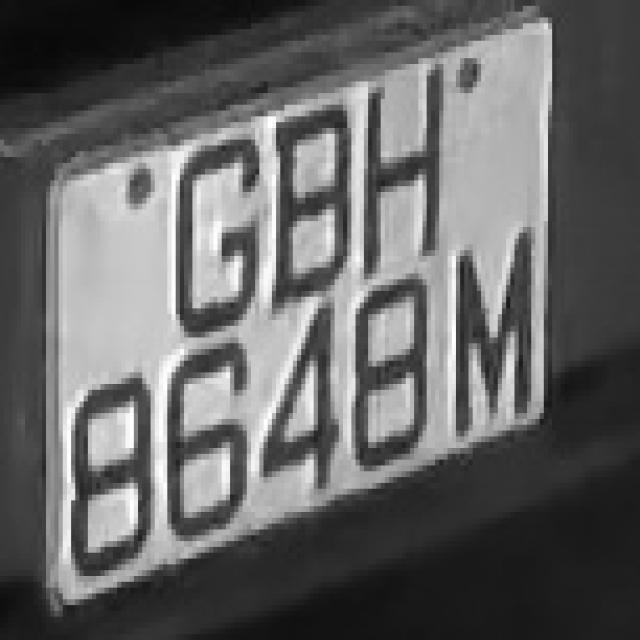4: (259, 326, 343, 524)
6: (159, 337, 263, 547)
8: (63, 360, 167, 588), (347, 280, 439, 466)
B: (259, 93, 360, 314)
G: (150, 128, 268, 343)
H: (343, 64, 456, 279)
M: (443, 227, 552, 465)
